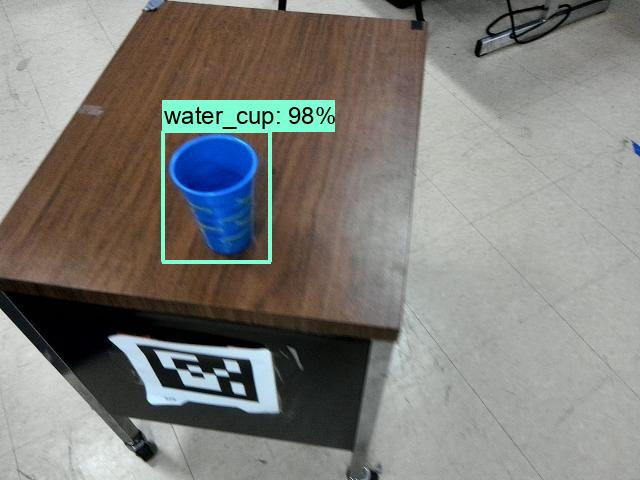water_cup: (169, 132, 271, 261)
